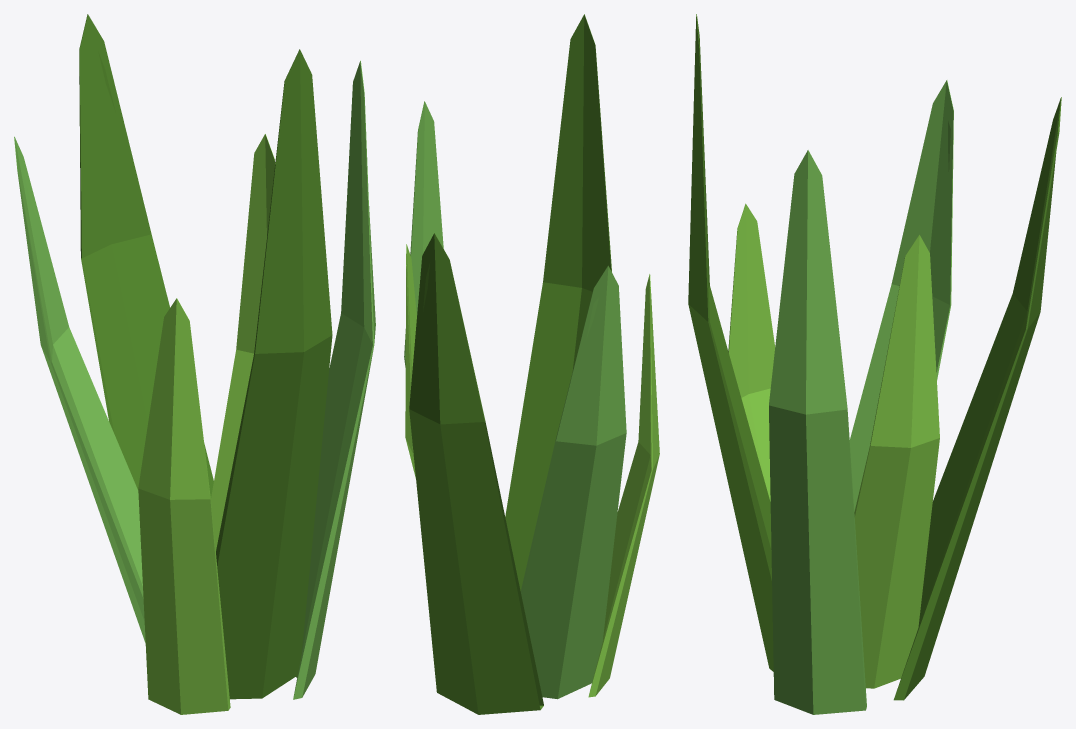
File: Grass.fbx
3 renders of one model, left to right at view 1: azimuth 30°, elevation 25°; view 2: azimuth 150°, elevation 25°; view 3: azimuth 270°, elevation 25°, orthographic. The views are drawn at different scales.
Parts seen in each view (by area): view 1: Grass; view 2: Grass; view 3: Grass.
Part boxes in pixels (box(x1,y1,x2,y2)): Grass: box(14, 14, 375, 714); Grass: box(404, 14, 659, 714); Grass: box(688, 14, 1061, 714).
Size of the model in its own units: 290 by 652 by 331.
